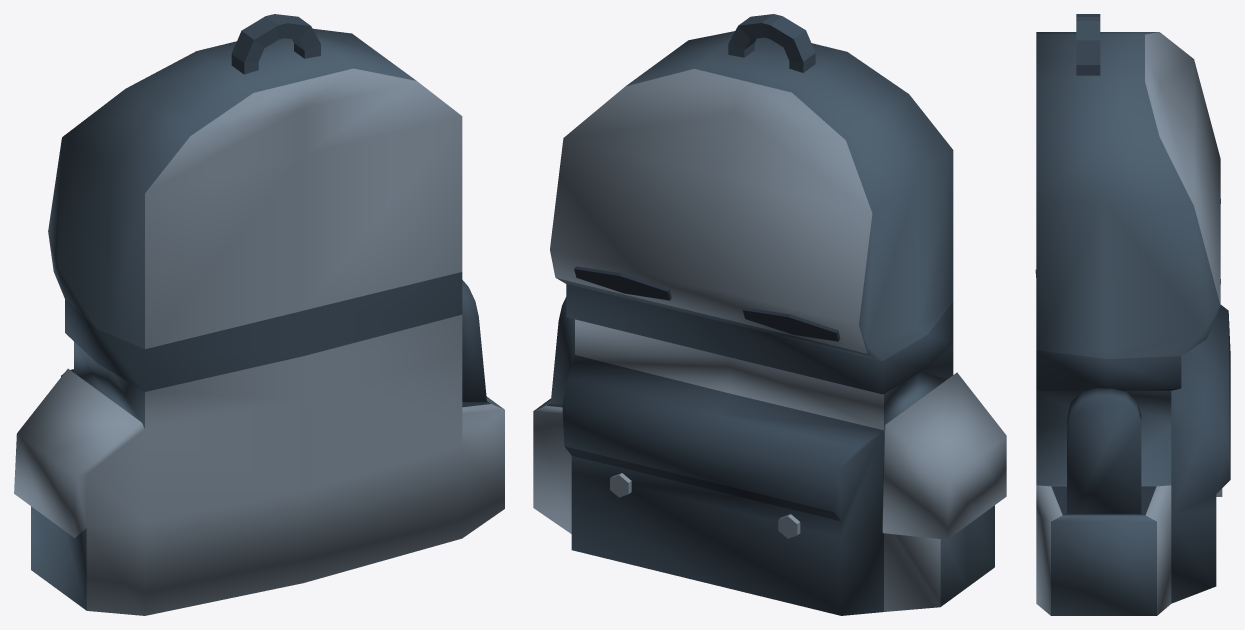
File: militaryBackpack.glb
The picture shows the model from 3 angles, left to right: view 1: azimuth 30°, elevation 25°; view 2: azimuth 150°, elevation 25°; view 3: azimuth 270°, elevation 25°; orthographic projection. The views are drawn at different scales.
Parts seen in each view (by area): view 1: militaryBackpack; view 2: militaryBackpack; view 3: militaryBackpack.
Boxes of the visible parts, x1=… form: militaryBackpack: x1=14, y1=14, x2=504, y2=615; militaryBackpack: x1=533, y1=14, x2=1006, y2=615; militaryBackpack: x1=1035, y1=14, x2=1230, y2=615.
Bounding box in the file's own units: 0.9326 × 1.13 × 0.385.
